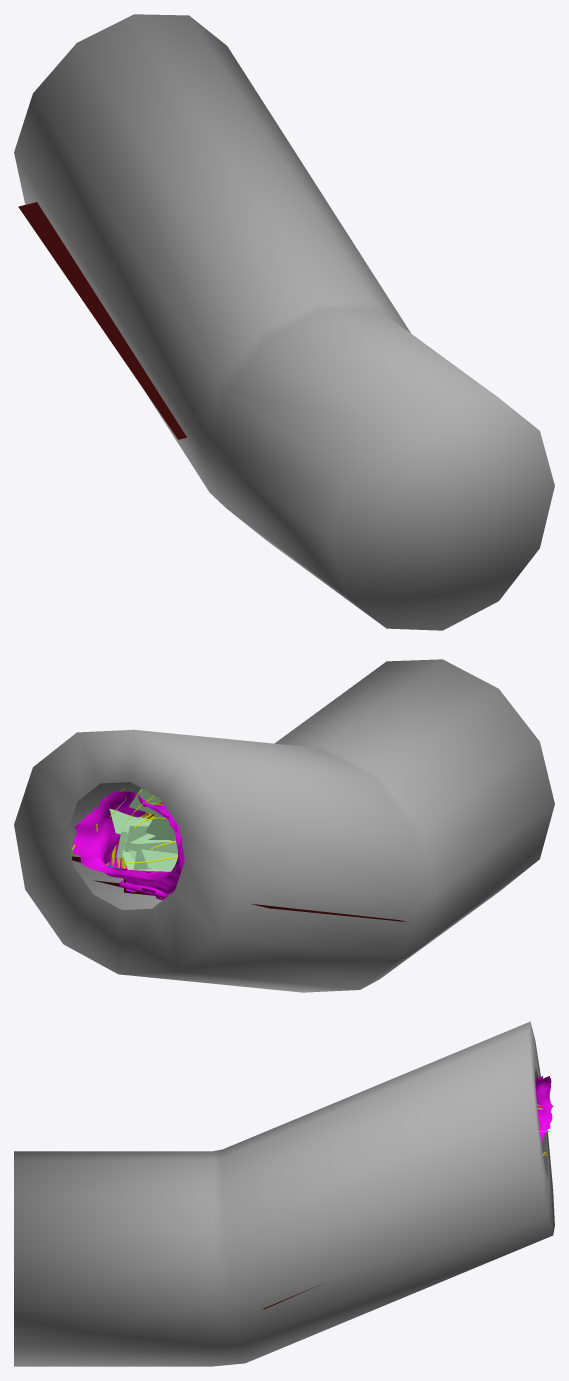
File: Metro.fbx
3 views of the same model, one above another, from view 1: azimuth 30°, elevation 25°; view 2: azimuth 150°, elevation 25°; view 3: azimuth 270°, elevation 25° (orthographic). The views are drawn at different scales.
Visible parts, largest first — view 1: ambient_occlusion, Floor_main; view 2: ambient_occlusion, Ground_exit, Dust, Floor_main; view 3: ambient_occlusion, Ground_exit.
Boxes of the visible parts, x1,y1,x2,y2 form: ambient_occlusion: [14, 14, 554, 630]; Floor_main: [18, 202, 186, 439]; ambient_occlusion: [14, 659, 554, 992]; Ground_exit: [72, 791, 184, 900]; Dust: [109, 788, 177, 871]; Floor_main: [71, 856, 407, 922]; ambient_occlusion: [14, 1021, 554, 1366]; Ground_exit: [535, 1076, 552, 1144].
Size of the model in its own units: 450 by 707 by 1065.
